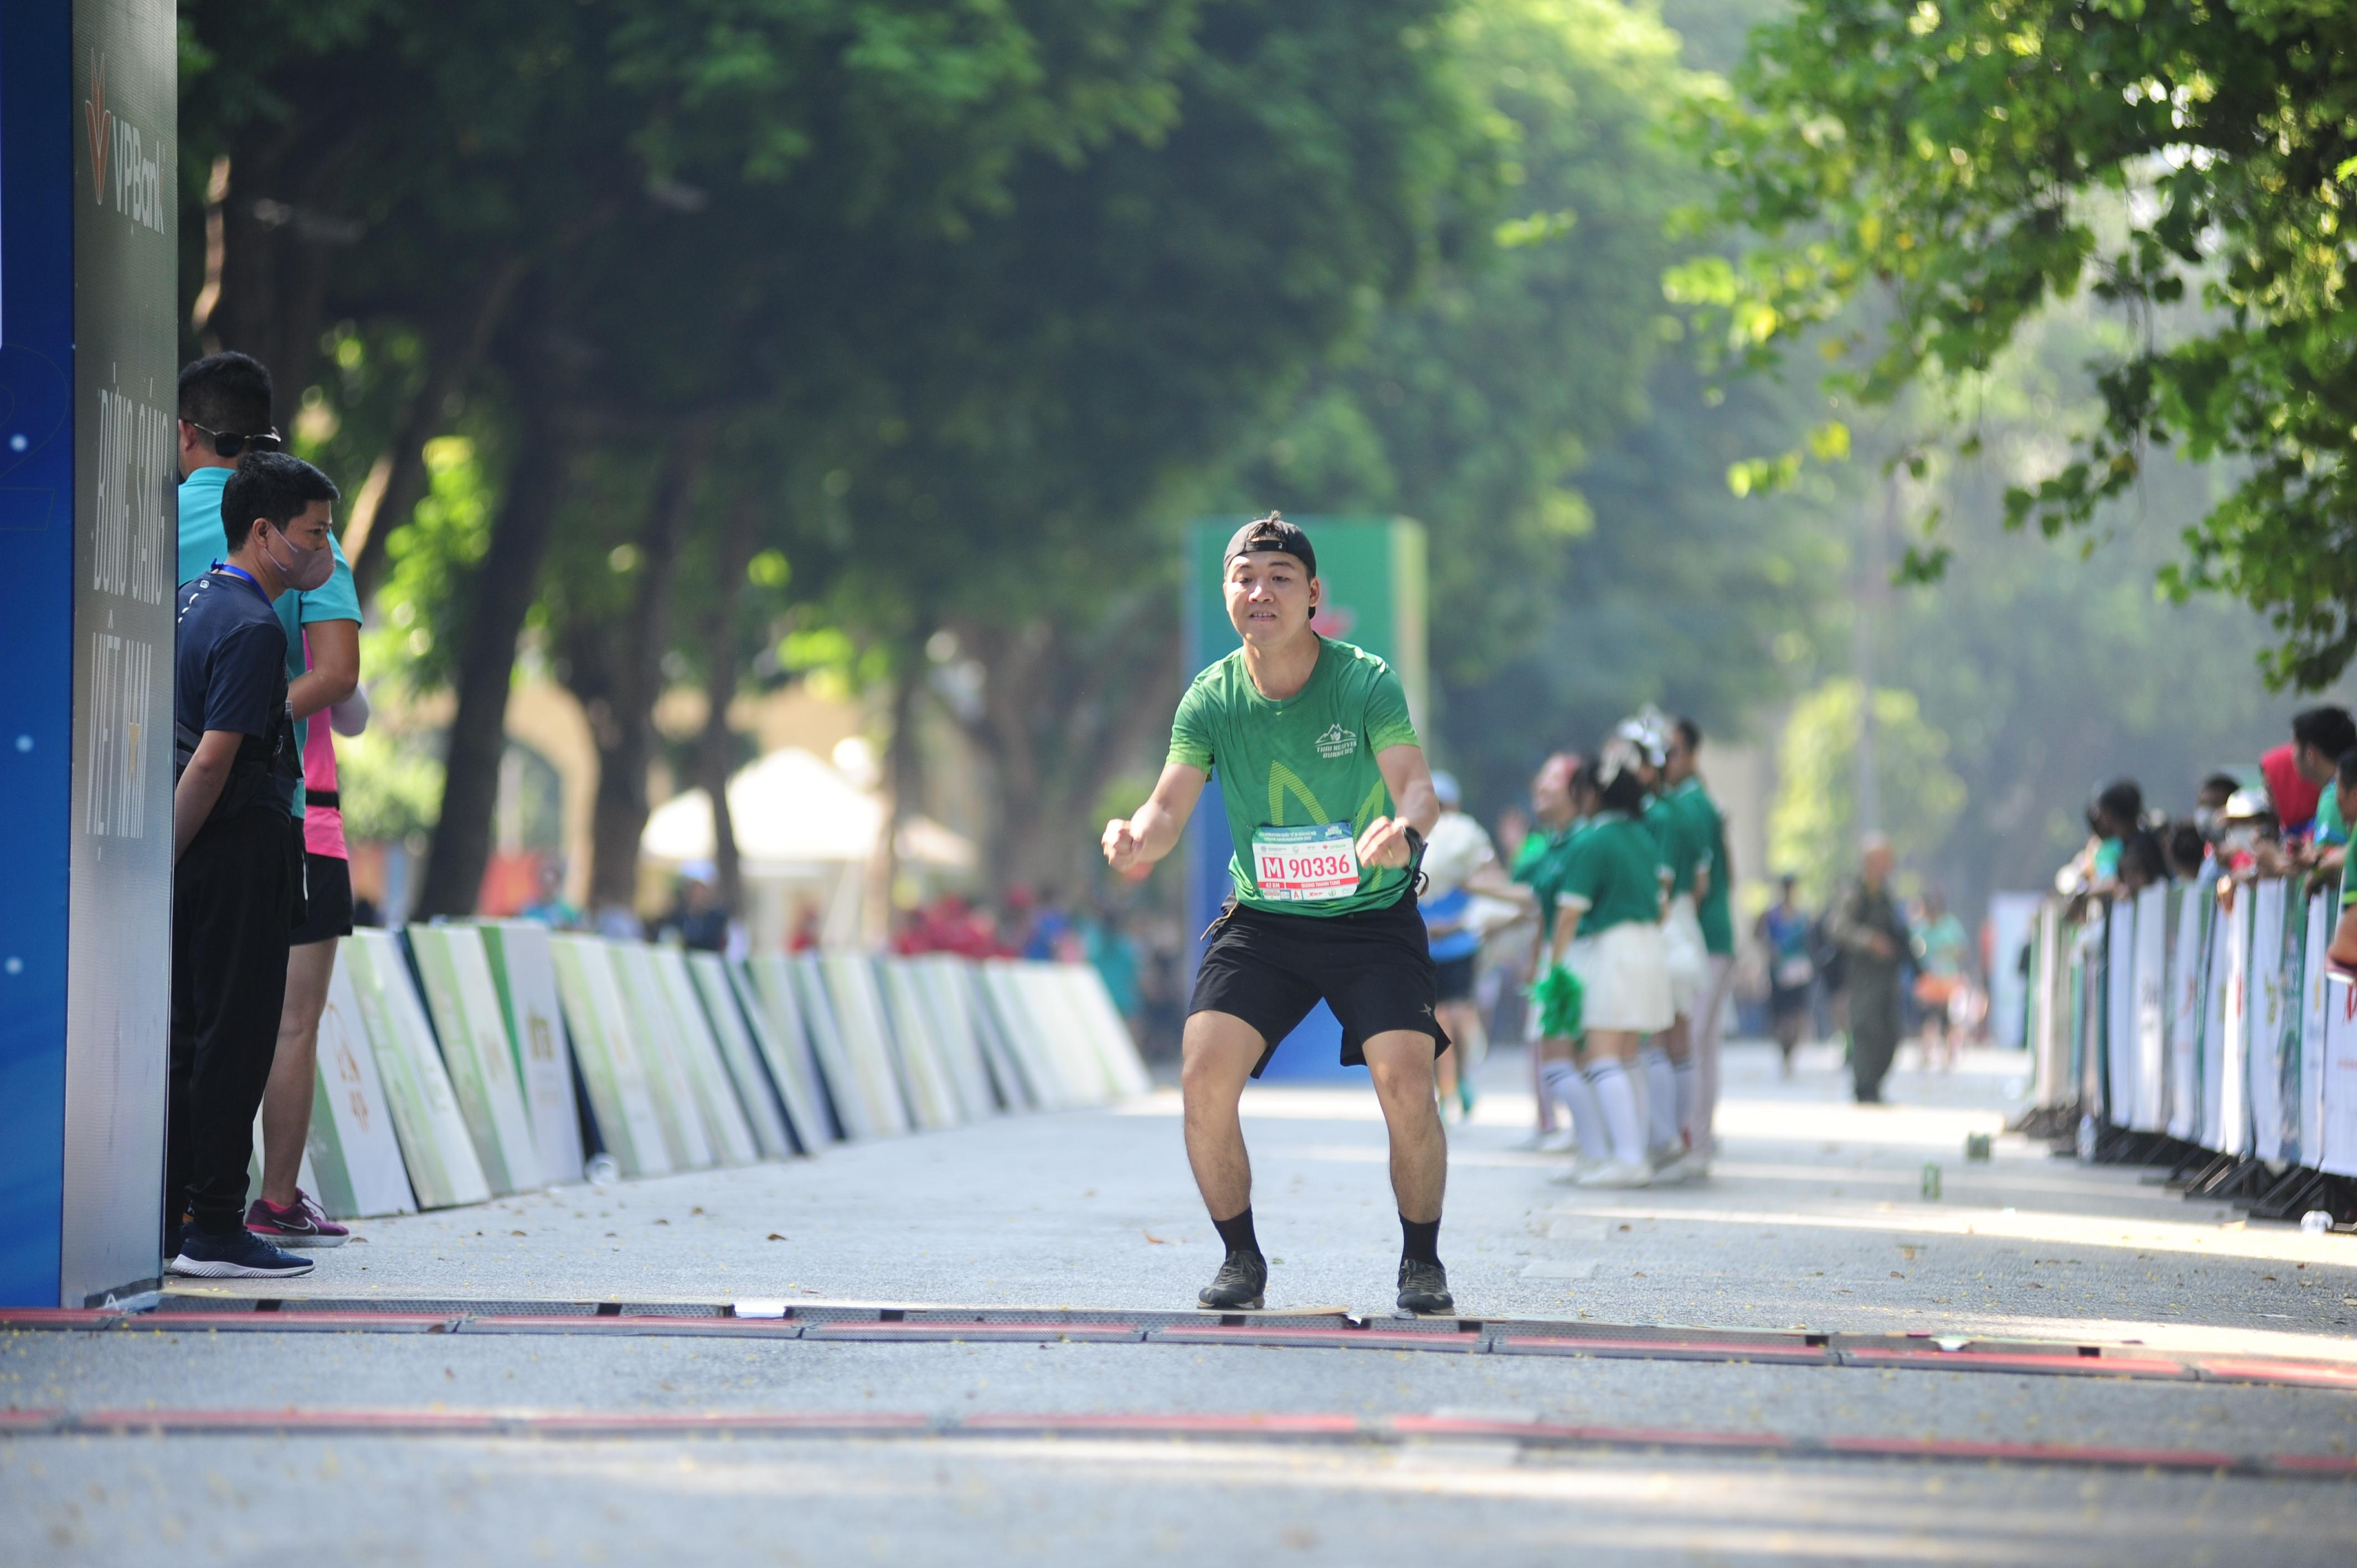bib: (1255, 828, 1363, 905)
